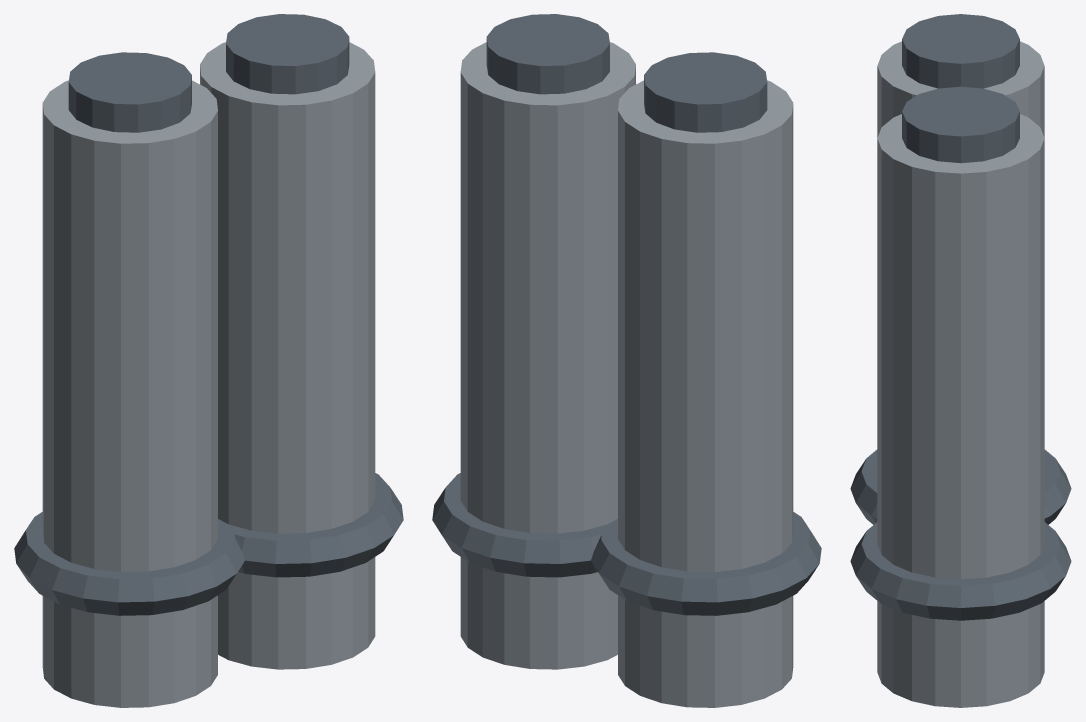
The model's file is 3_Volatile.fbx.
3 views of the same model, side by side, from view 1: azimuth 30°, elevation 25°; view 2: azimuth 150°, elevation 25°; view 3: azimuth 270°, elevation 25° (orthographic). The views are drawn at different scales.
Parts seen in each view (by area): view 1: Body; view 2: Body; view 3: Body.
Boxes of the visible parts, <box> form: Body: <box>14,14,403,707</box>; Body: <box>432,14,821,707</box>; Body: <box>850,14,1071,707</box>.
Size of the model in its own units: 0.8 by 1.26 by 0.45.
